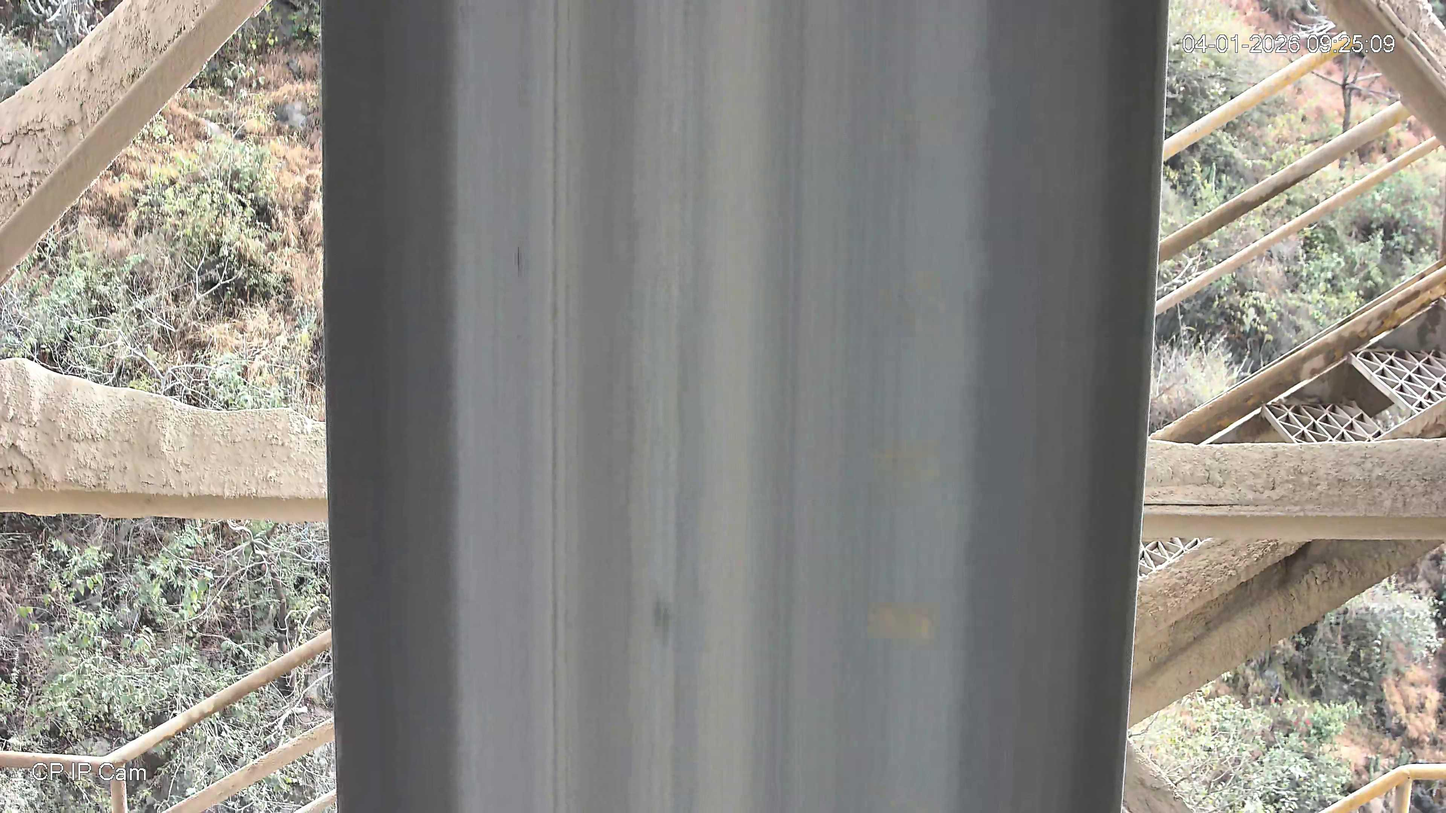belt_roi: (320, 0, 1172, 813)
